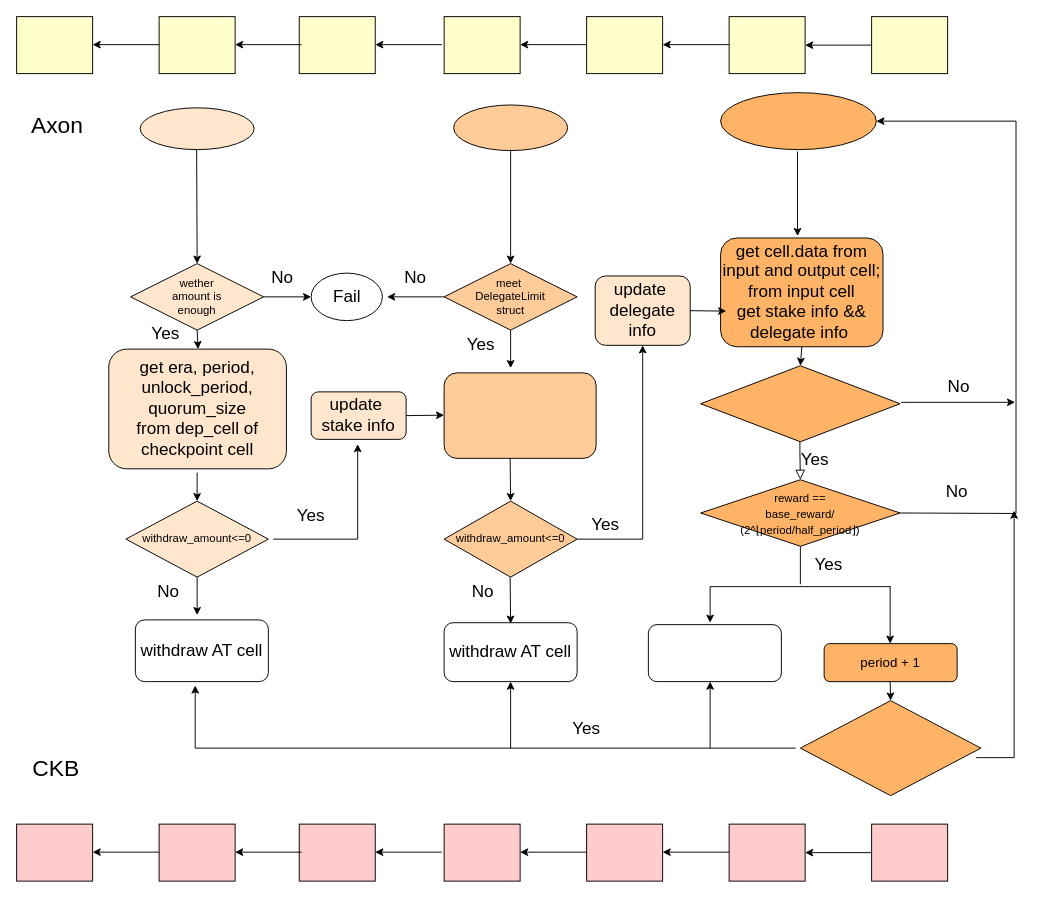
Image size: 1040x898. Some labels were removed from this diagram. Each missing label, with the centre of its shape:
"get stake info update {delegate lock cell}.data.smt_root" belongs at point 519,415.
"output.period == {checkpoint}.unlock_period + checkpoint.period" belongs at point 890,748.
"reward withdraw AT cell" belongs at point 714,653.
"submit checkpoint" belongs at point 798,121.
"submit delegate" belongs at point 510,127.
"submit stake" belongs at point 196,128.
"witness.L2_block_hash == block_hash&& check bls_puk_key" belongs at point 800,403.
